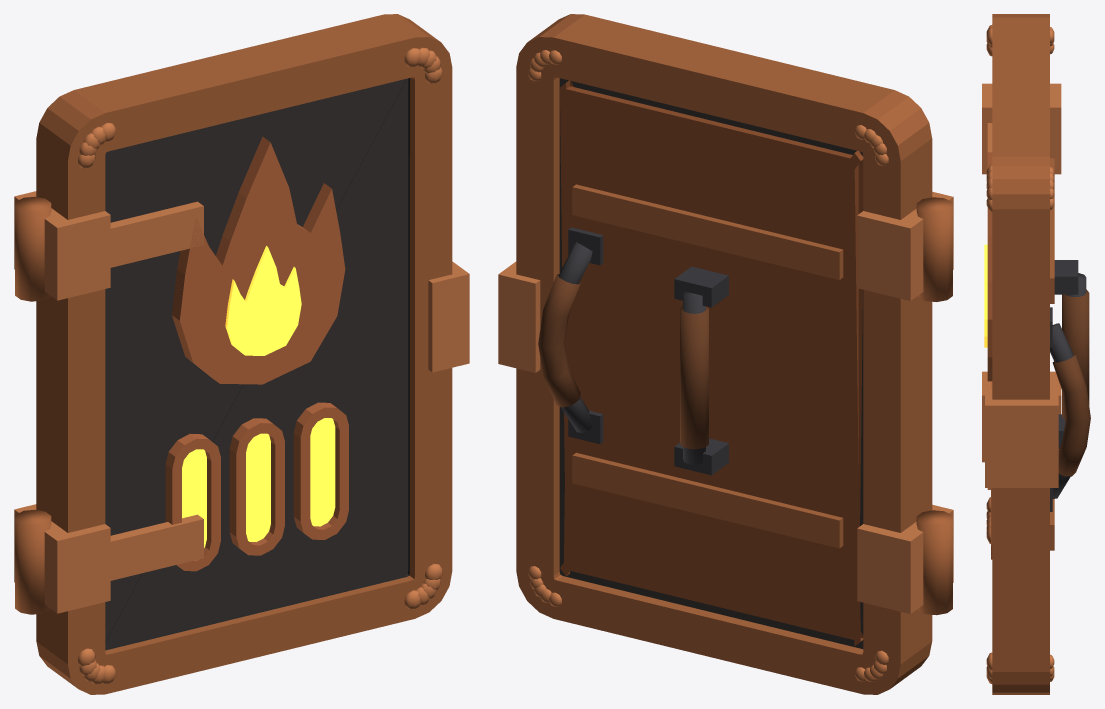
Rendered from cinderkeep_shield.glb.
3 views of the same model, side by side, from view 1: azimuth 30°, elevation 25°; view 2: azimuth 150°, elevation 25°; view 3: azimuth 270°, elevation 25° (orthographic). The views are drawn at different scales.
Parts seen in each view (by area): view 1: CinderkeepShield; view 2: CinderkeepShield; view 3: CinderkeepShield.
Part boxes in pixels (box(x1,y1,x2,y2)): CinderkeepShield: box(14, 14, 469, 694); CinderkeepShield: box(498, 14, 953, 694); CinderkeepShield: box(982, 14, 1090, 694).
Bounding box in the file's own units: 0.7438 × 0.9568 × 0.1766.
